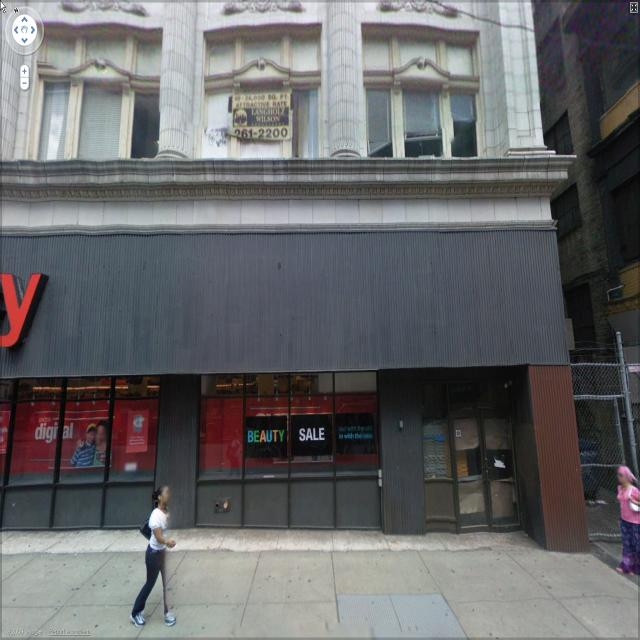b_1: (1, 6, 591, 533)
